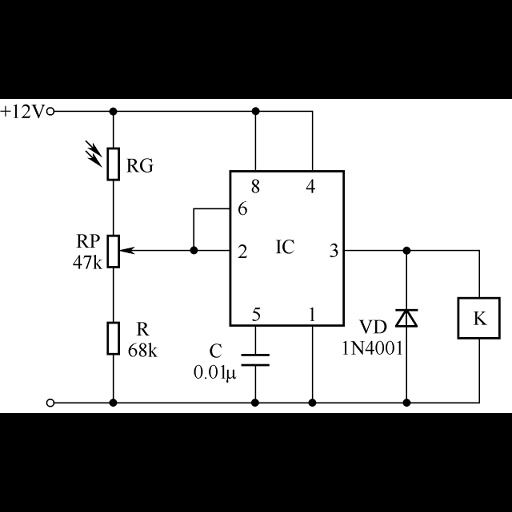capacitor: (237, 349, 276, 370)
firstresistance: (101, 317, 122, 362)
seconddiode: (394, 305, 420, 332)
